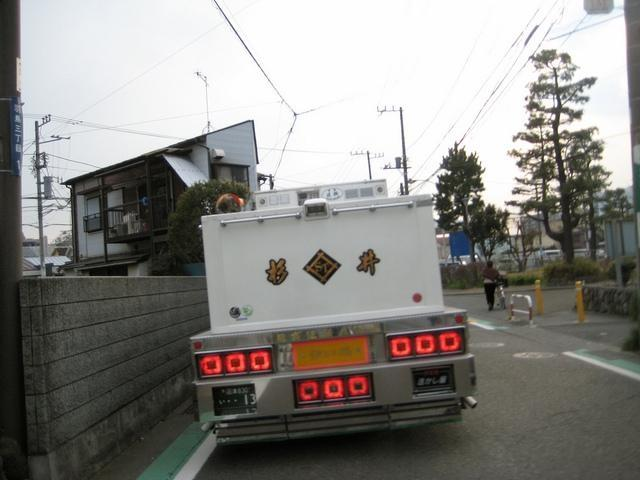bicycle: (496, 281, 506, 309)
truck: (193, 178, 478, 447)
